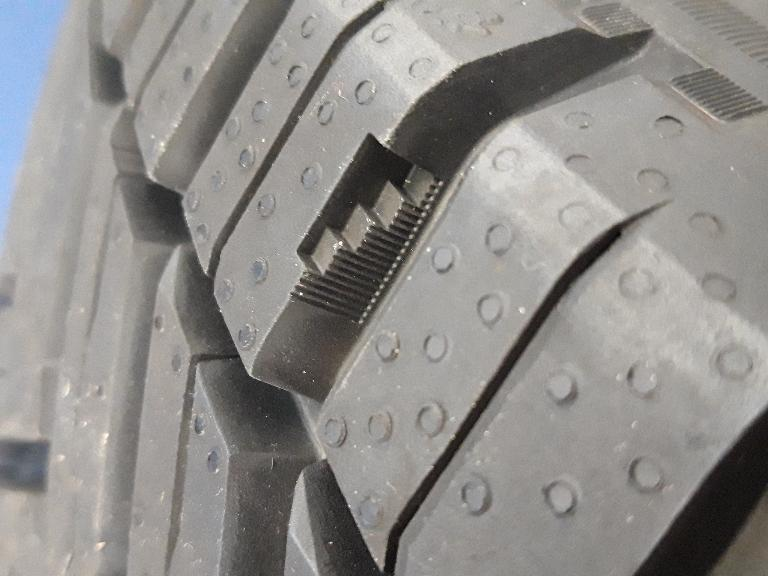temoin:100: (279, 126, 454, 333)
